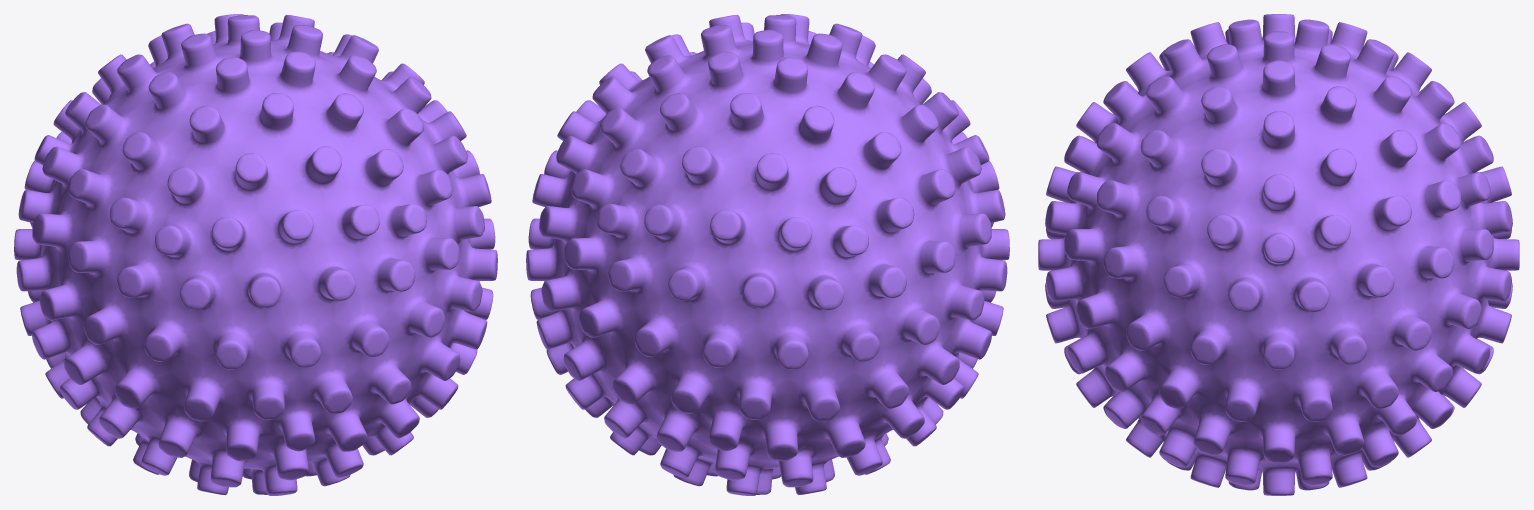
3 views of the same model, side by side, from view 1: azimuth 30°, elevation 25°; view 2: azimuth 150°, elevation 25°; view 3: azimuth 270°, elevation 25° (orthographic).
Parts seen in each view (by area): view 1: Ball; view 2: Ball; view 3: Ball.
Boxes of the visible parts, bbox=[...] form: Ball: bbox=[14, 14, 497, 495]; Ball: bbox=[526, 14, 1009, 495]; Ball: bbox=[1038, 14, 1519, 495].
Bounding box in the file's own units: 1.68 × 1.68 × 1.68.
